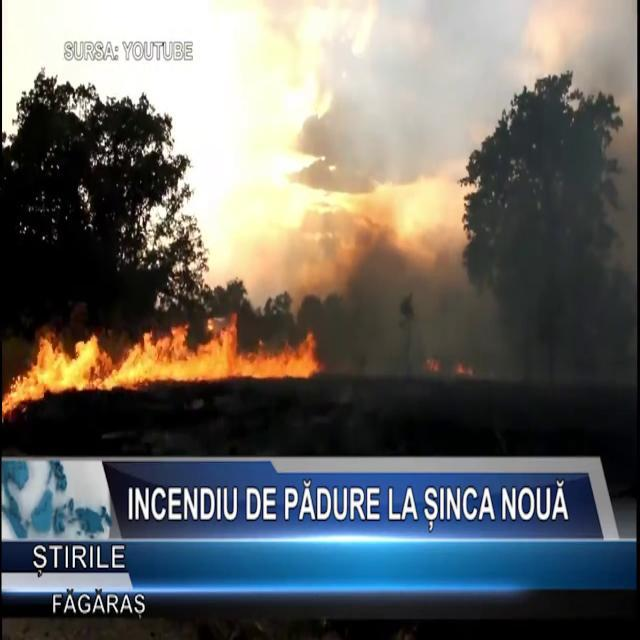Fire: (4, 311, 324, 395)
Smoke: (323, 214, 543, 395)
